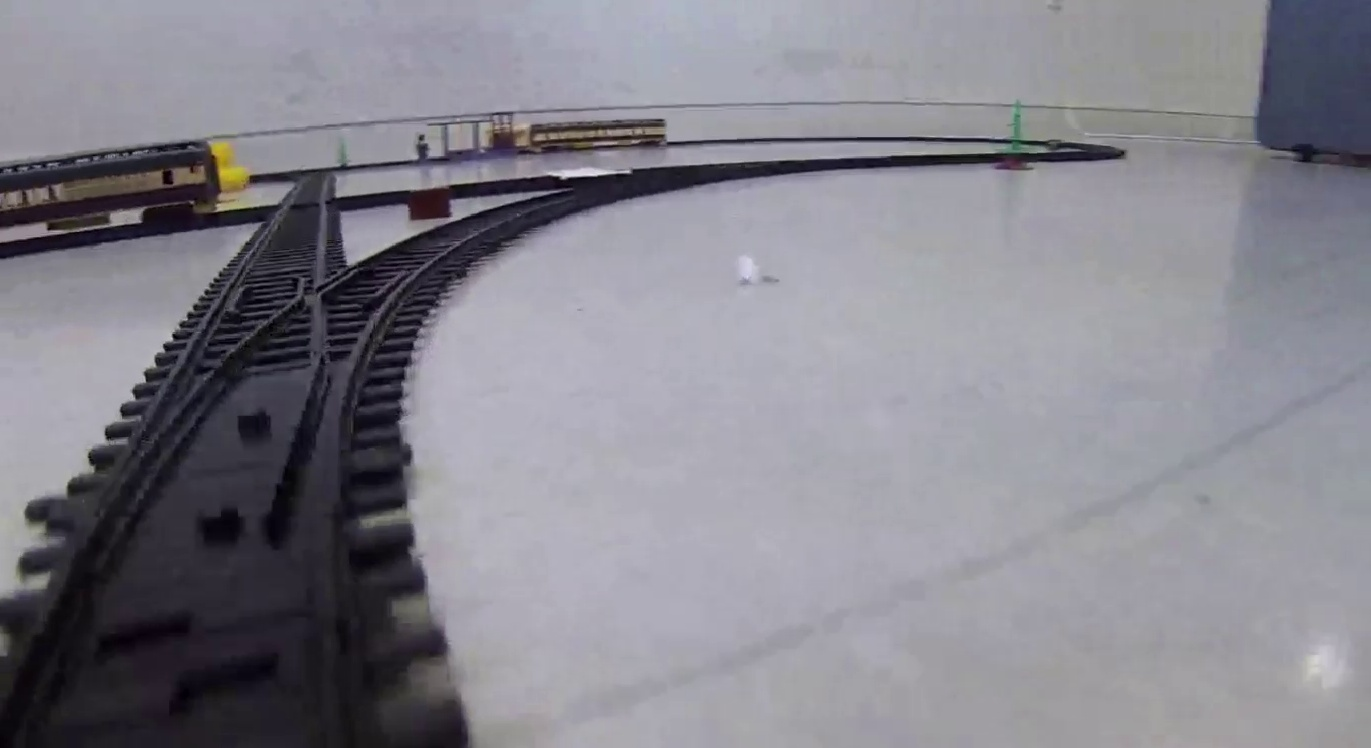box: (406, 194, 450, 216)
